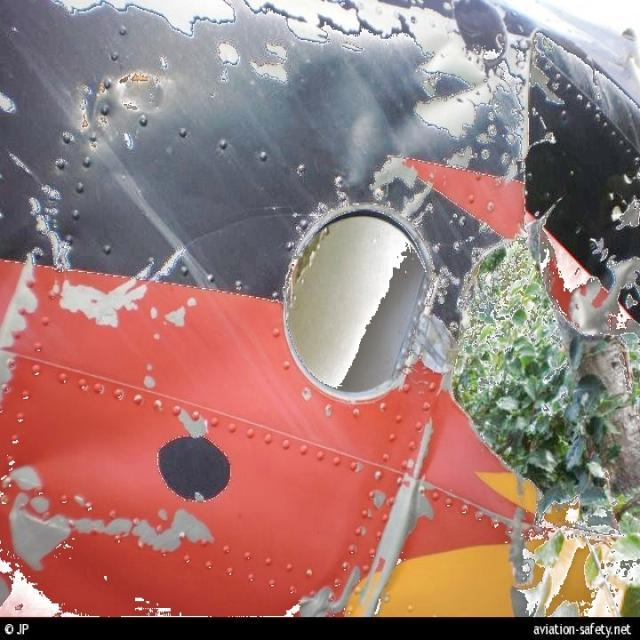dent: (294, 51, 421, 186), (2, 416, 156, 496)
